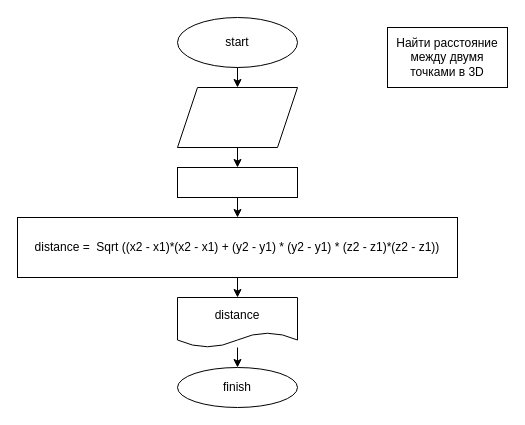
The diagram is 525 pixels wide and 425 high, and some of its shapes have lost their labels. Each missing label, with the centre of its shape:
"distance = 0" belongs at point (237, 182).
"x1, y1, z1 x2, y2, z2" belongs at point (237, 117).
